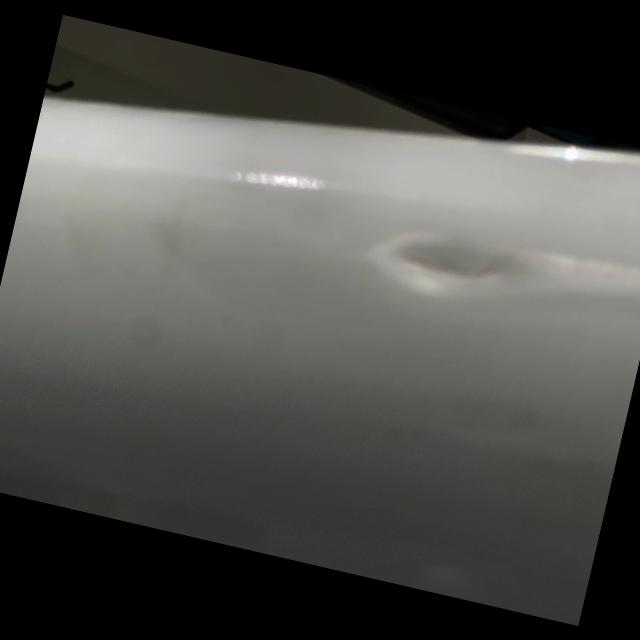dent: (345, 200, 560, 332)
